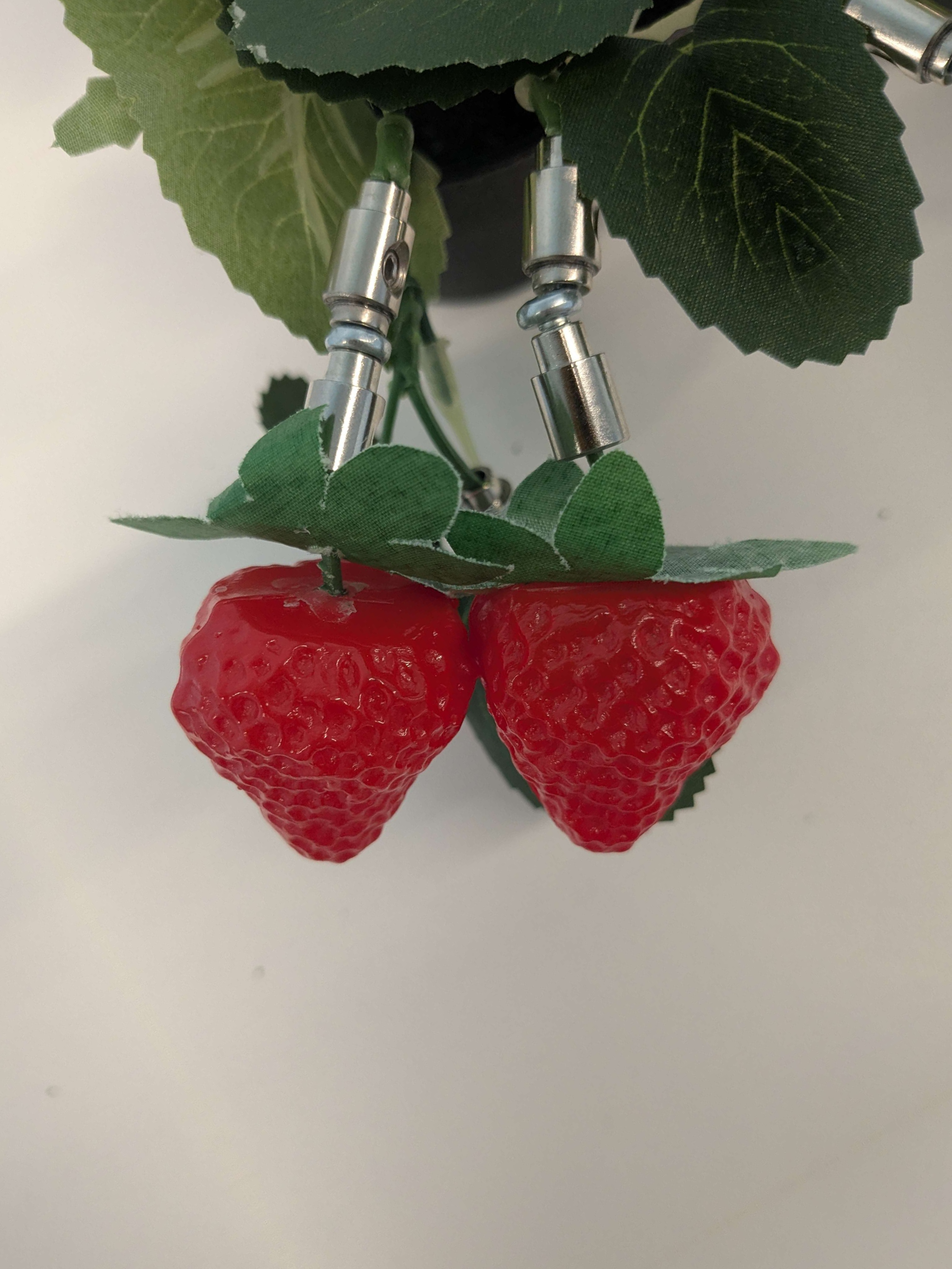Strawberry: (383, 402, 881, 913), (95, 476, 538, 925)
